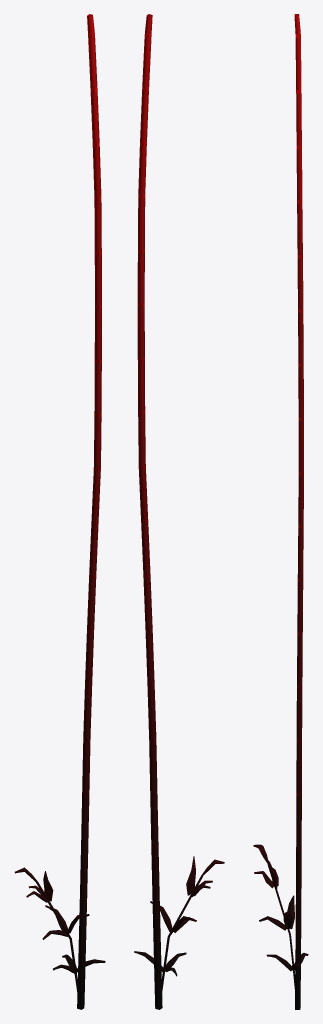
File: TreeBambooTall02.fbx
3 views of the same model, side by side, from view 1: azimuth 30°, elevation 25°; view 2: azimuth 210°, elevation 25°; view 3: azimuth 330°, elevation 25° (orthographic).
Parts seen in each view (by area): view 1: TreeBambooTall02_LOD0; view 2: TreeBambooTall02_LOD0; view 3: TreeBambooTall02_LOD0.
Part boxes in pixels (x1,y1,x2,y2): TreeBambooTall02_LOD0: (14, 14, 105, 1009); TreeBambooTall02_LOD0: (134, 14, 224, 1009); TreeBambooTall02_LOD0: (253, 14, 308, 1009).
Size of what is drawn, in the model's own units: 80.41 by 1113 by 55.21.
